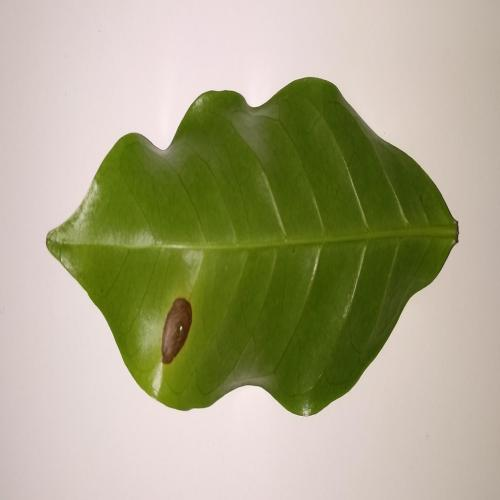miner: (161, 298, 192, 364)
